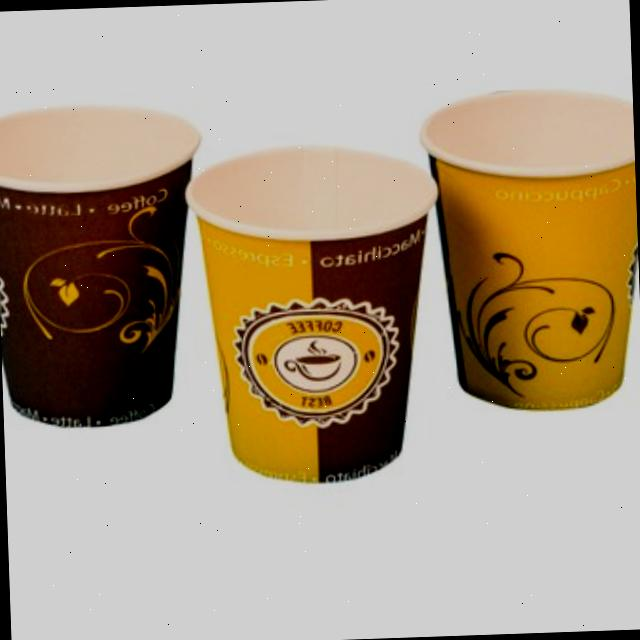trash: (180, 124, 438, 523), (0, 82, 240, 471), (430, 72, 640, 412)
